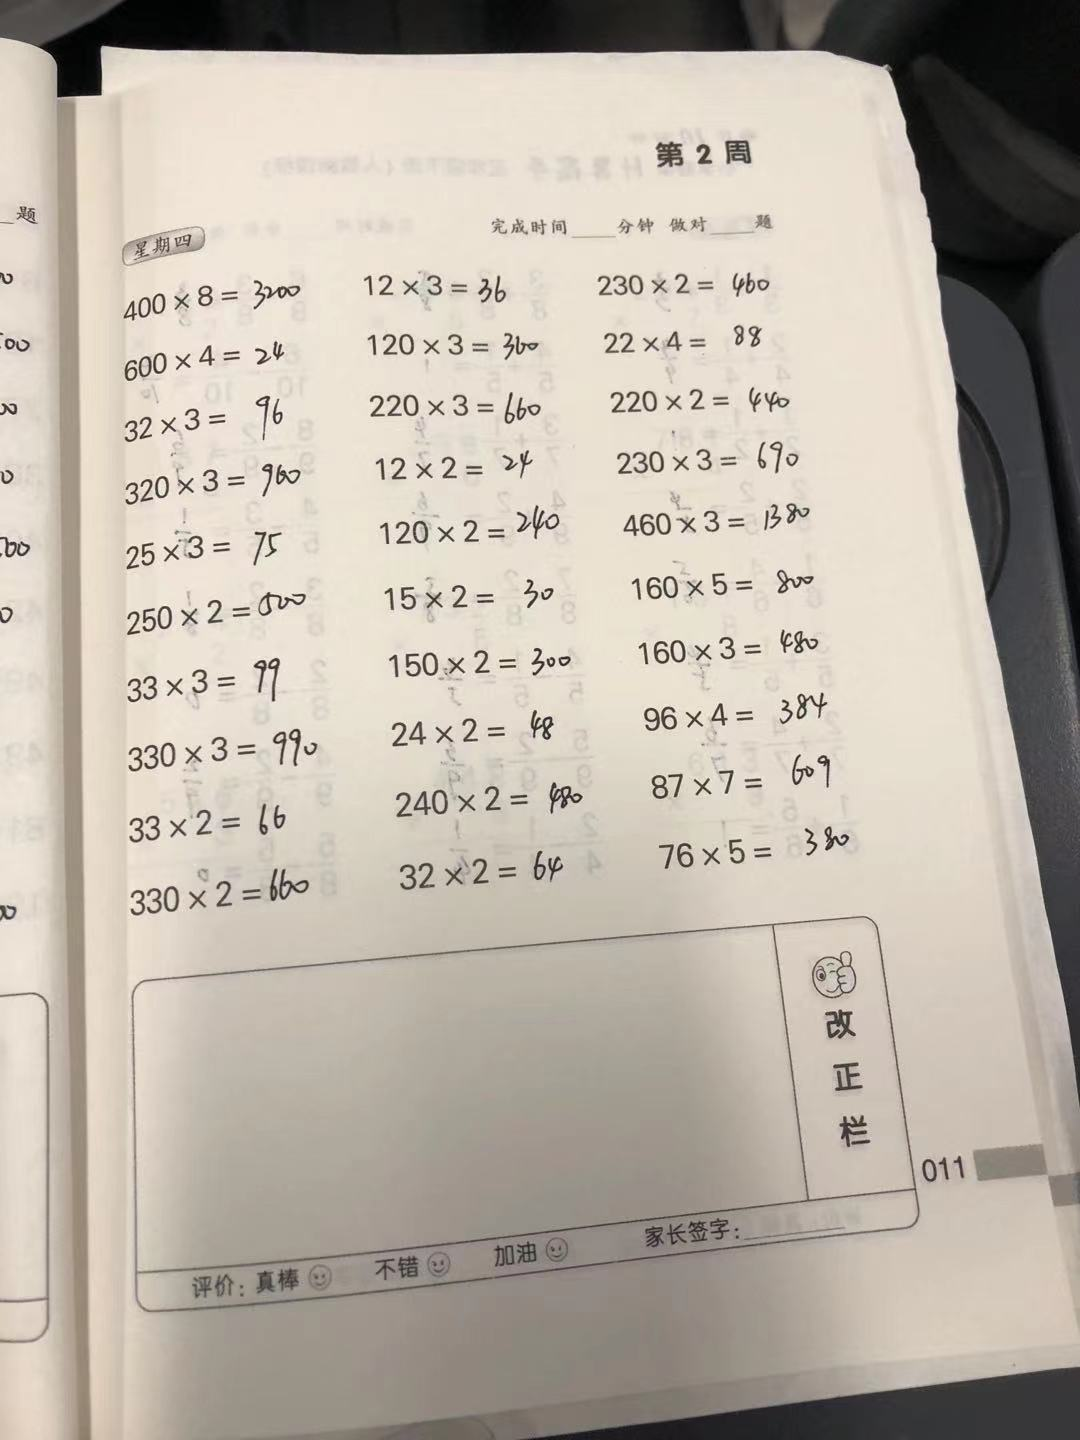equation: (111, 718, 357, 782), (116, 450, 345, 512), (122, 861, 350, 922), (628, 681, 861, 739), (379, 636, 604, 695), (114, 390, 328, 448), (114, 584, 339, 639), (633, 755, 850, 812), (379, 707, 602, 762), (117, 798, 342, 850), (114, 522, 328, 576), (608, 493, 827, 545), (101, 273, 336, 321), (644, 825, 874, 872), (376, 502, 584, 553), (387, 782, 611, 828), (356, 253, 530, 310), (622, 558, 831, 605), (639, 621, 847, 668), (111, 656, 313, 704), (362, 388, 568, 435), (602, 438, 822, 482), (116, 336, 311, 385), (356, 321, 588, 362), (396, 845, 590, 893), (599, 381, 824, 421), (382, 573, 576, 619), (587, 259, 782, 301), (365, 448, 557, 490), (604, 319, 784, 362)
